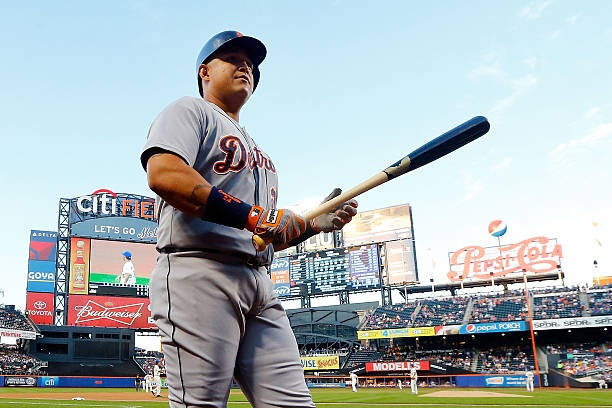bita: (252, 115, 491, 251)
